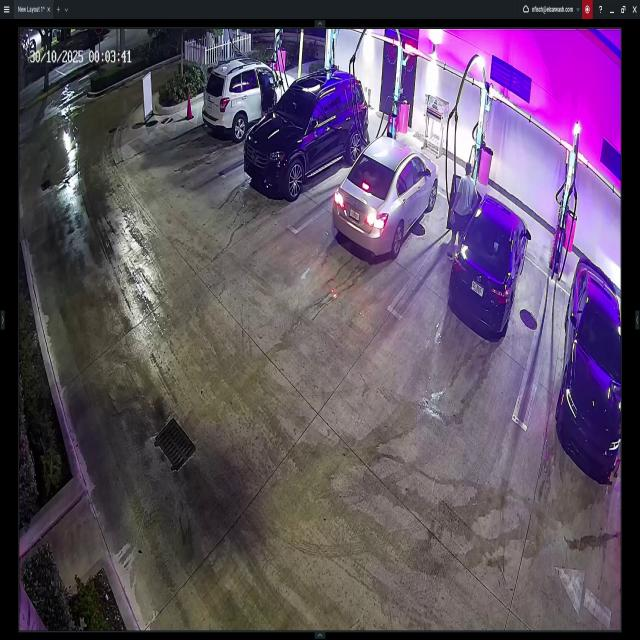Car: (244, 70, 366, 190), (557, 255, 621, 472), (448, 178, 532, 338), (336, 135, 438, 258), (202, 56, 293, 140)
